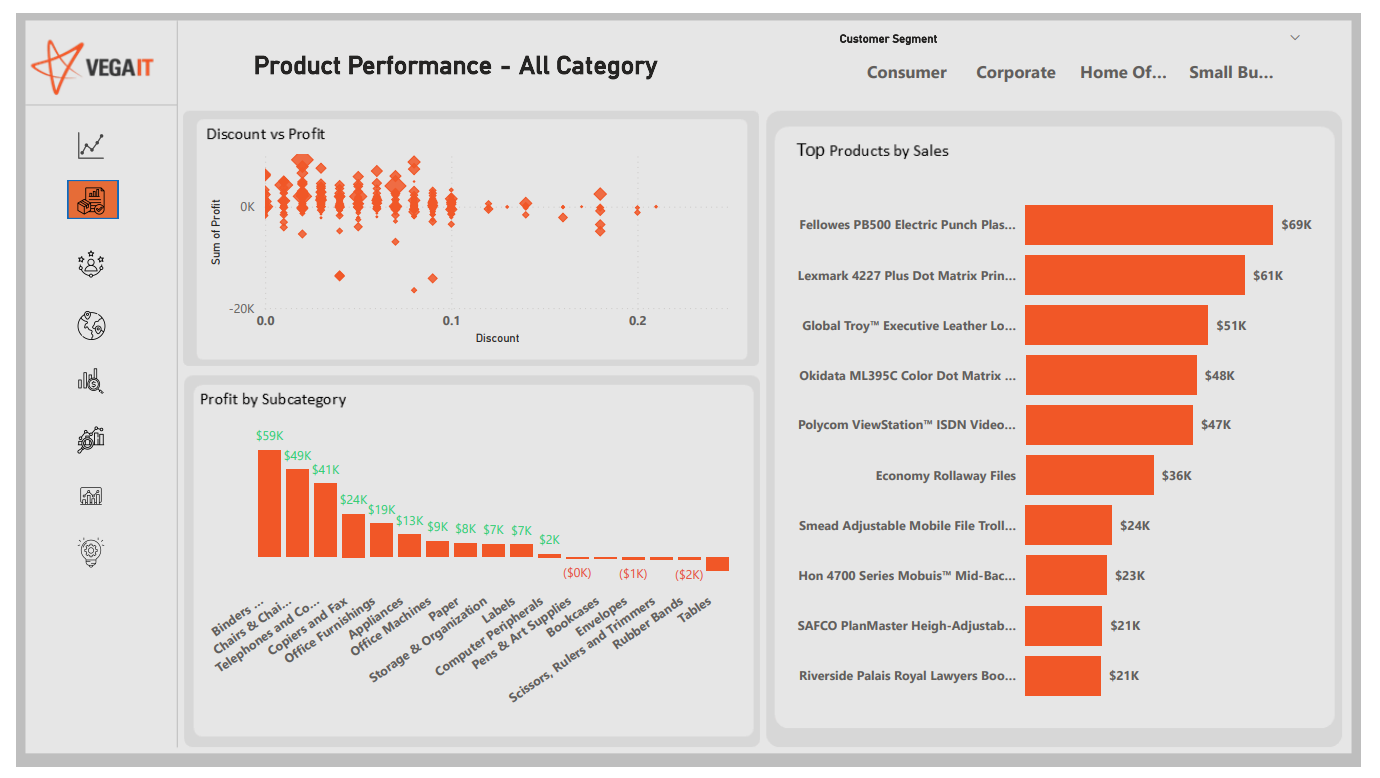

This screenshot's page, from the dashboard's own definition file:
{"tool":"powerbi","page":{"name":"Product Performance","canvas":[1280,720],"ordinal":1},"visuals":[{"type":"scatterChart","fields":{"X":["Sum(VegaIT_clean_superstore_data.Discount)"],"Y":["Sum(VegaIT_clean_superstore_data.Profit)"],"Size":["Sum(VegaIT_clean_superstore_data.Sales)"],"Category":["VegaIT_clean_superstore_data.Profit"]},"box":[179.7,122.5,513.8,197.2],"z":0},{"type":"shape","box":[49.2,158.8,47.6,36.5],"z":0,"group":"g1"},{"type":"barChart","fields":{"Category":["VegaIT_clean_superstore_data.Product Name"],"Y":["Measure.Total Sales"]},"box":[725.7,151.2,521.6,523.5],"z":1000},{"type":"columnChart","fields":{"Category":["VegaIT_clean_superstore_data.Product Sub-Category"],"Y":["Measure.Total Profit"]},"box":[179.5,383.6,514,302.4],"z":2000},{"type":"card","fields":{"Values":["Measure.Title Profit"]},"box":[198.4,13.1,441,70.5],"z":3000},{"type":"slicer","fields":{"Values":["VegaIT_clean_superstore_data.Customer Segment"]},"box":[771.4,12.7,463.5,69.8],"z":4000},{"type":"image","box":[53.1,108.3,35.9,35.9],"z":5000},{"type":"image","box":[52.8,330.1,36.5,41.3],"z":6000},{"type":"image","box":[53.1,158.6,35.9,39.1],"z":7000,"group":"g1"},{"type":"image","box":[53.1,211.9,35.9,53.1],"z":7000},{"type":"image","box":[52.8,385.7,36.5,41.3],"z":8000},{"type":"image","box":[55.2,441.3,31.7,36.5],"z":9000},{"type":"image","box":[52,492.1,38.1,42.9],"z":10000},{"type":"image","box":[46.5,279.3,49.2,36.5],"z":11000},{"type":"group","id":"g1","title":"Group 1","box":[49.2,158.6,47.6,39.1],"z":12000}]}

Visuals, with their boxes on the page's 1280x720 design canvas (x1, y1, x2, y2). These are canvas units, not pixel positions in the 1380x778 screenshot, which may show the page scaled, cropped or inside an application window:
scatterChart - Sum(VegaIT_clean_superstore_data.Discount) x Sum(VegaIT_clean_superstore_data.Profit): Rect(180, 122, 694, 320)
shape: Rect(49, 159, 97, 195)
barChart - VegaIT_clean_superstore_data.Product Name x Measure.Total Sales: Rect(726, 151, 1247, 675)
columnChart - VegaIT_clean_superstore_data.Product Sub-Category x Measure.Total Profit: Rect(180, 384, 694, 686)
card - Measure.Title Profit: Rect(198, 13, 639, 84)
slicer - VegaIT_clean_superstore_data.Customer Segment: Rect(771, 13, 1235, 82)
image: Rect(53, 108, 89, 144)
image: Rect(53, 330, 89, 371)
image: Rect(53, 159, 89, 198)
image: Rect(53, 212, 89, 265)
image: Rect(53, 386, 89, 427)
image: Rect(55, 441, 87, 478)
image: Rect(52, 492, 90, 535)
image: Rect(46, 279, 96, 316)
"Group 1" group: Rect(49, 159, 97, 198)
